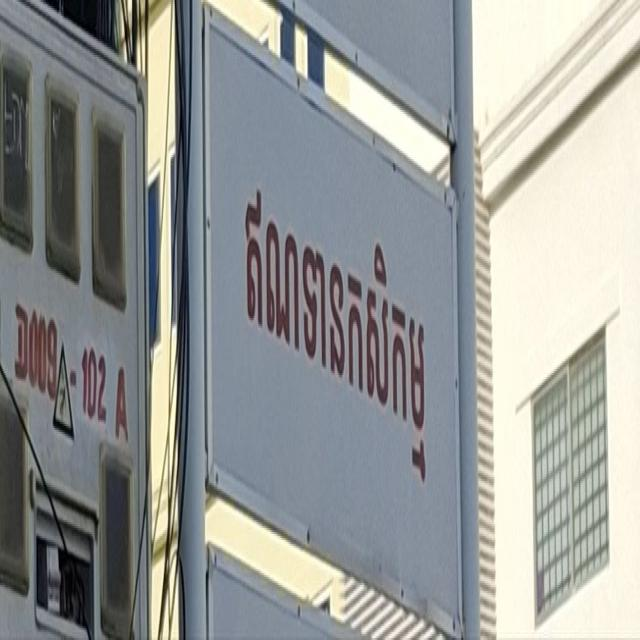Yolov11kh: (222, 132, 441, 581)
